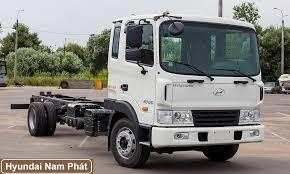hyundai: (212, 86, 227, 97)
